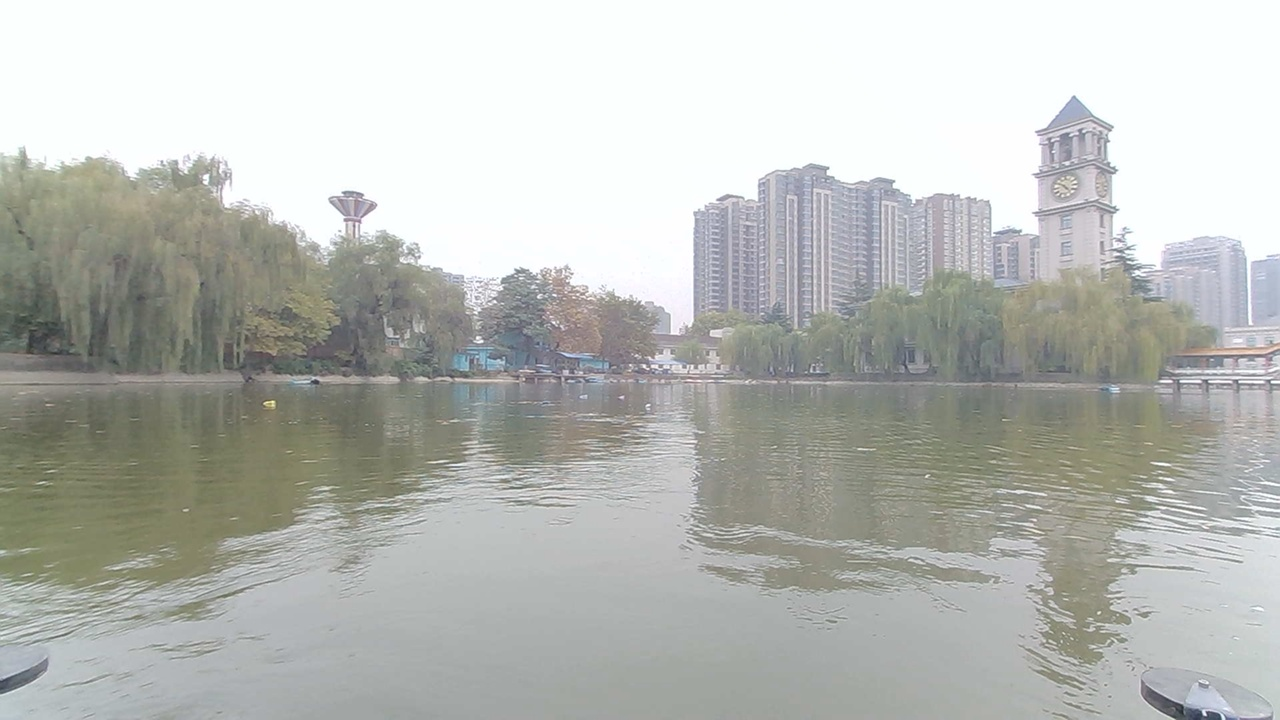bottle: (570, 382, 611, 404), (259, 396, 290, 419), (642, 389, 668, 409), (607, 386, 633, 405)
